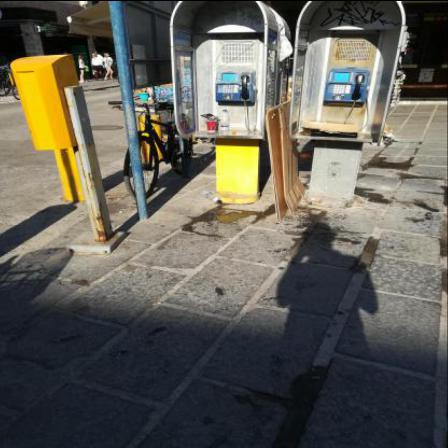Bottle: (202, 190, 223, 204), (221, 111, 230, 131)
Bottle cap: (219, 200, 223, 203), (234, 132, 238, 134), (224, 110, 228, 112)
Carton: (279, 106, 307, 214), (303, 120, 361, 134)
Cigarette: (154, 302, 162, 306)
Cup: (207, 120, 219, 132)
Plastic bag - wrapper: (282, 36, 294, 62), (201, 115, 220, 121)
